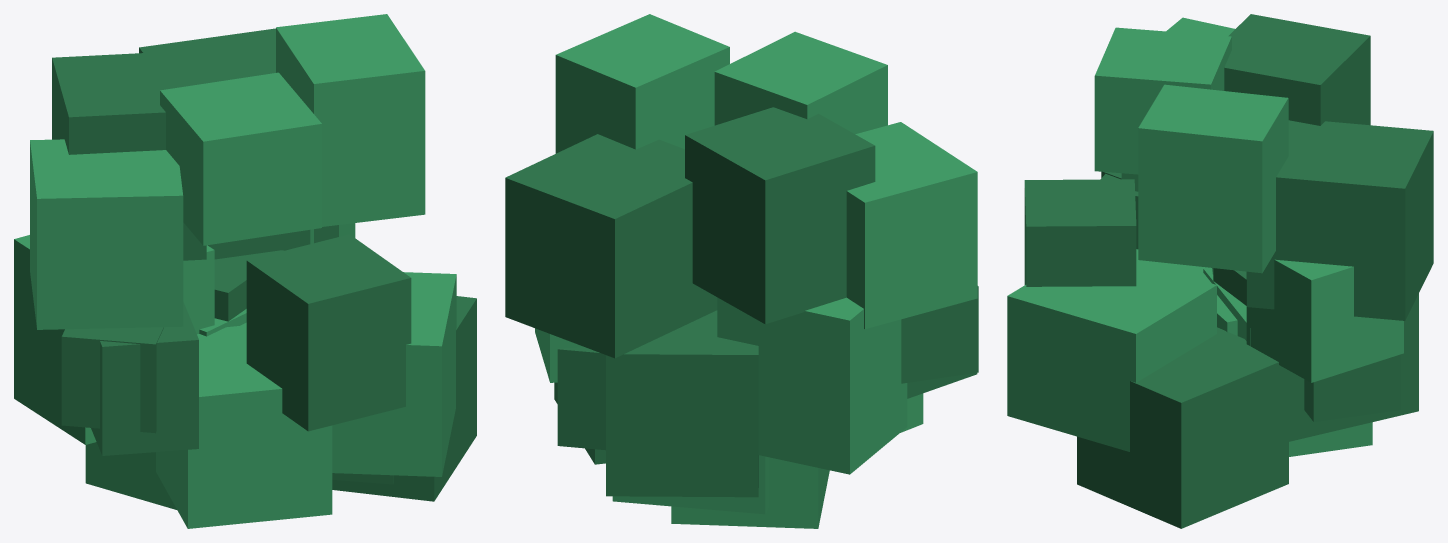
The model's file is bushTall.glb.
3 views of the same model, side by side, from view 1: azimuth 30°, elevation 25°; view 2: azimuth 150°, elevation 25°; view 3: azimuth 270°, elevation 25° (orthographic). The views are drawn at different scales.
Parts seen in each view (by area): view 1: bushTall_leafMid, bushTall_leafDark; view 2: bushTall_leafDark, bushTall_leafMid; view 3: bushTall_leafDark, bushTall_leafMid.
Part boxes in pixels (<box>): bushTall_leafMid: <box>14,14,456,528</box>; bushTall_leafDark: <box>52,28,476,501</box>; bushTall_leafDark: <box>505,107,978,497</box>; bushTall_leafMid: <box>535,14,977,528</box>; bushTall_leafDark: <box>1024,14,1433,528</box>; bushTall_leafMid: <box>1007,17,1403,456</box>.
Bounding box in the file's own units: 3.27 × 2.92 × 3.
